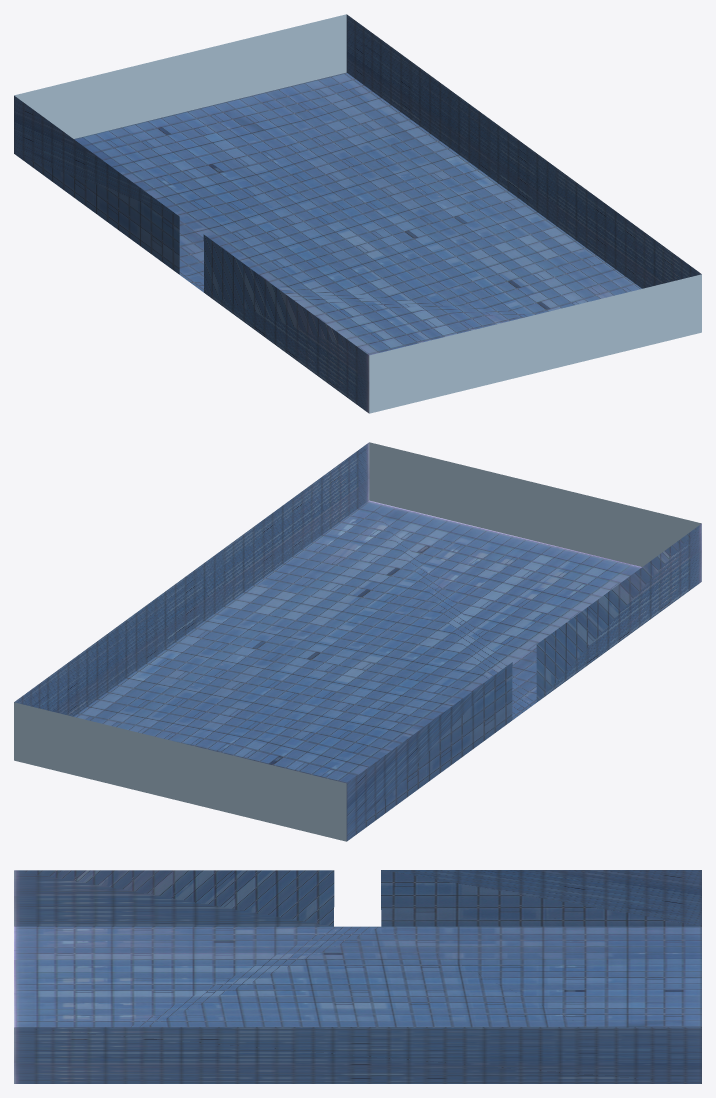
File: Building_Rm_Coll.fbx
The picture shows the model from 3 angles, top to bottom: view 1: azimuth 30°, elevation 25°; view 2: azimuth 150°, elevation 25°; view 3: azimuth 270°, elevation 25°; orthographic projection. The views are drawn at different scales.
Visible parts, largest first — view 1: P_Building_Windows_Rm_Coll; view 2: P_Building_Windows_Rm_Coll; view 3: P_Building_Windows_Rm_Coll.
Part boxes in pixels (<box>): P_Building_Windows_Rm_Coll: <box>14,14,701,413</box>; P_Building_Windows_Rm_Coll: <box>14,442,701,841</box>; P_Building_Windows_Rm_Coll: <box>14,870,701,1083</box>.
Size of the model in its own units: 27.81 by 4.66 by 51.43.
